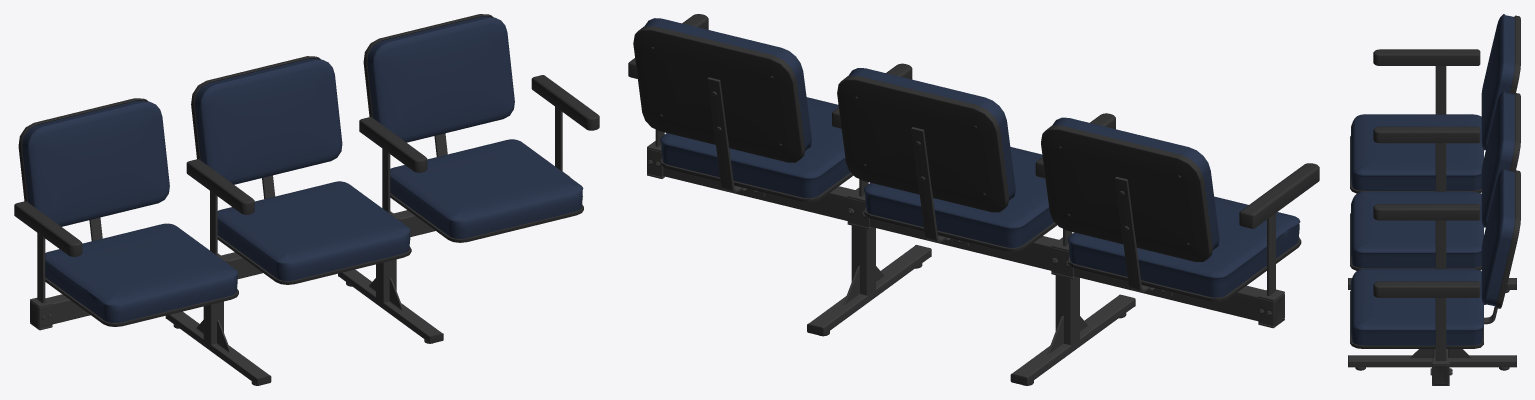
Rendered from Kit_TandemBeam3_Navy.fbx.
3 views of the same model, side by side, from view 1: azimuth 30°, elevation 25°; view 2: azimuth 150°, elevation 25°; view 3: azimuth 270°, elevation 25° (orthographic). The views are drawn at different scales.
Parts seen in each view (by area): view 1: Kit_TandemBeam3_LOD0; view 2: Kit_TandemBeam3_LOD0; view 3: Kit_TandemBeam3_LOD0.
Part boxes in pixels (x1=…): Kit_TandemBeam3_LOD0: x1=14, y1=14, x2=599, y2=385; Kit_TandemBeam3_LOD0: x1=628, y1=14, x2=1319, y2=385; Kit_TandemBeam3_LOD0: x1=1348, y1=14, x2=1520, y2=385.
Size of what is drawn, in the model's own units: 2 by 0.84 by 0.6144.
